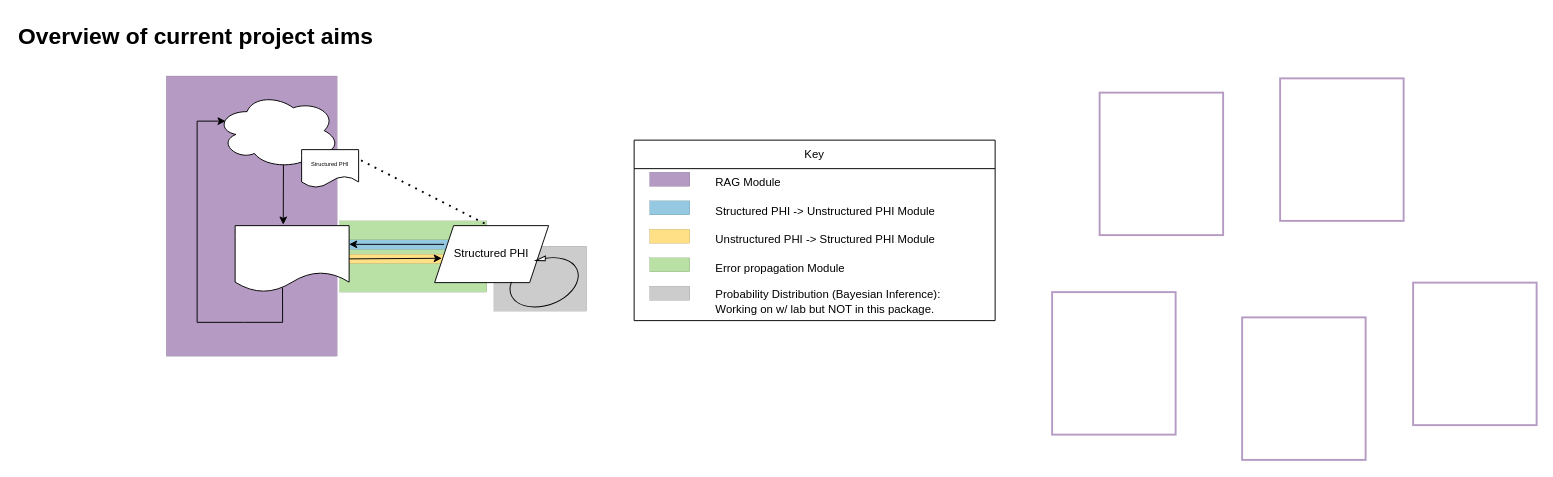
Some shapes in this 1553 by 477 pixel diagram are drawn without their labels. Each missing label, with the box of its shape:
Query: Record creation (by use r): (215, 92, 340, 169)
Unstructured PHI (health report): (234, 225, 349, 292)
